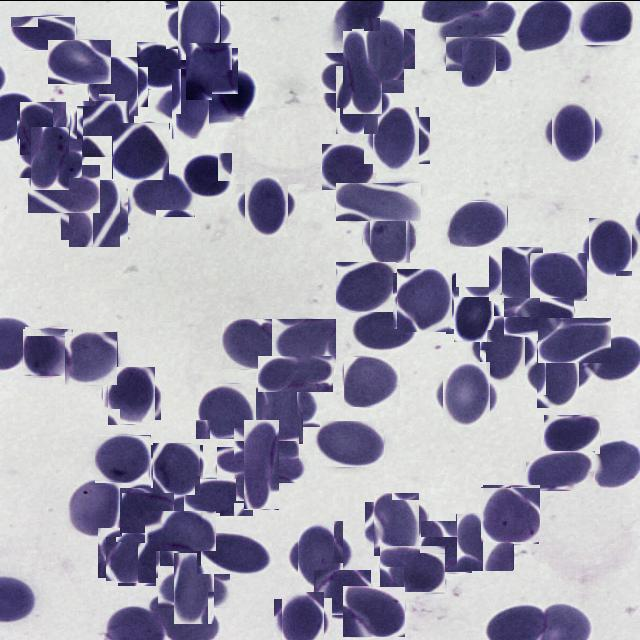red blood cell: (230, 432, 293, 496), (332, 42, 393, 102), (394, 270, 454, 330), (65, 183, 124, 243), (28, 164, 100, 212), (102, 523, 160, 581), (253, 376, 311, 434), (456, 512, 514, 570), (292, 526, 349, 584), (112, 122, 170, 179), (197, 382, 255, 439), (482, 485, 540, 542), (538, 317, 611, 362), (380, 544, 446, 593), (336, 182, 421, 220), (314, 420, 384, 466), (474, 321, 531, 377), (368, 111, 424, 168), (222, 318, 285, 368), (438, 366, 494, 422), (166, 559, 222, 615), (152, 502, 208, 558), (343, 586, 405, 636), (197, 532, 272, 573), (531, 346, 586, 401), (489, 245, 544, 300), (328, 72, 384, 126), (336, 261, 396, 311), (369, 497, 424, 551), (172, 0, 228, 53), (69, 480, 122, 536), (132, 170, 195, 217), (440, 0, 514, 40), (164, 76, 218, 130), (118, 489, 172, 543), (546, 104, 600, 157), (105, 368, 158, 422), (65, 330, 118, 384), (504, 296, 575, 336), (272, 318, 336, 362), (240, 178, 293, 231), (524, 450, 594, 490), (48, 39, 111, 83), (183, 44, 236, 96), (344, 356, 399, 406), (530, 252, 587, 300), (358, 22, 410, 74), (258, 355, 333, 391), (95, 434, 151, 482), (450, 200, 508, 246), (184, 478, 254, 516), (80, 102, 131, 154), (421, 520, 472, 572), (314, 570, 371, 616), (25, 132, 76, 183), (586, 220, 636, 272), (574, 1, 633, 44), (152, 443, 202, 493), (18, 102, 68, 152), (454, 28, 504, 78), (137, 41, 189, 89), (322, 143, 376, 189), (350, 309, 412, 349), (94, 61, 143, 111), (24, 327, 73, 376), (450, 289, 498, 337), (278, 594, 328, 640), (182, 152, 232, 197), (11, 15, 76, 49), (544, 414, 600, 453), (234, 426, 300, 459), (367, 212, 412, 260), (212, 70, 256, 118)
